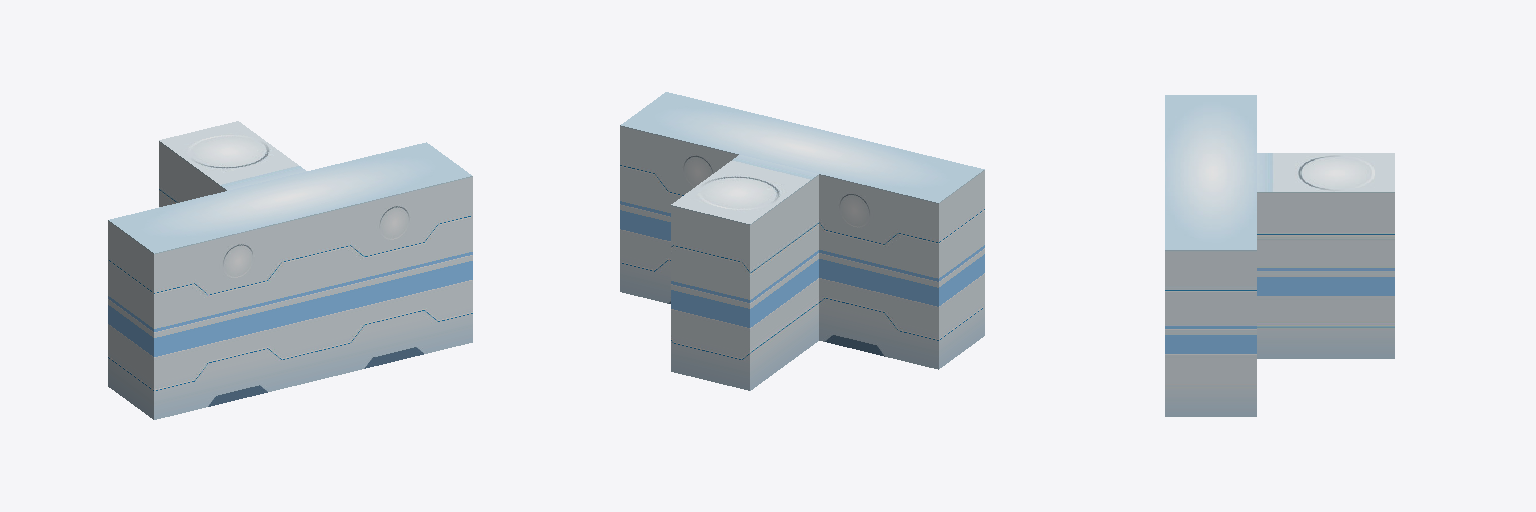
3 renders of one model, left to right at view 1: azimuth 30°, elevation 25°; view 2: azimuth 150°, elevation 25°; view 3: azimuth 270°, elevation 25°, orthographic.
Parts seen in each view (by area): view 1: mesh02; view 2: mesh02; view 3: mesh02.
Part boxes in pixels (bbox=[...]): mesh02: bbox=[108, 121, 472, 419]; mesh02: bbox=[620, 92, 984, 390]; mesh02: bbox=[1165, 95, 1394, 416].
Size of the model in its own units: 80 by 40 by 50.
Materials: 1 (1 with a texture image).